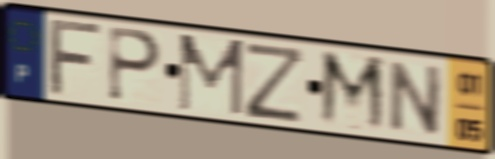F: (47, 17, 107, 99)
M: (317, 47, 389, 137), (176, 31, 247, 120)
N: (386, 58, 446, 139)
P: (105, 23, 164, 106)
Z: (243, 38, 308, 126)
